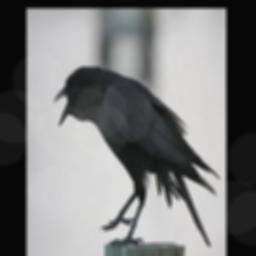Crow: (53, 64, 220, 250)
